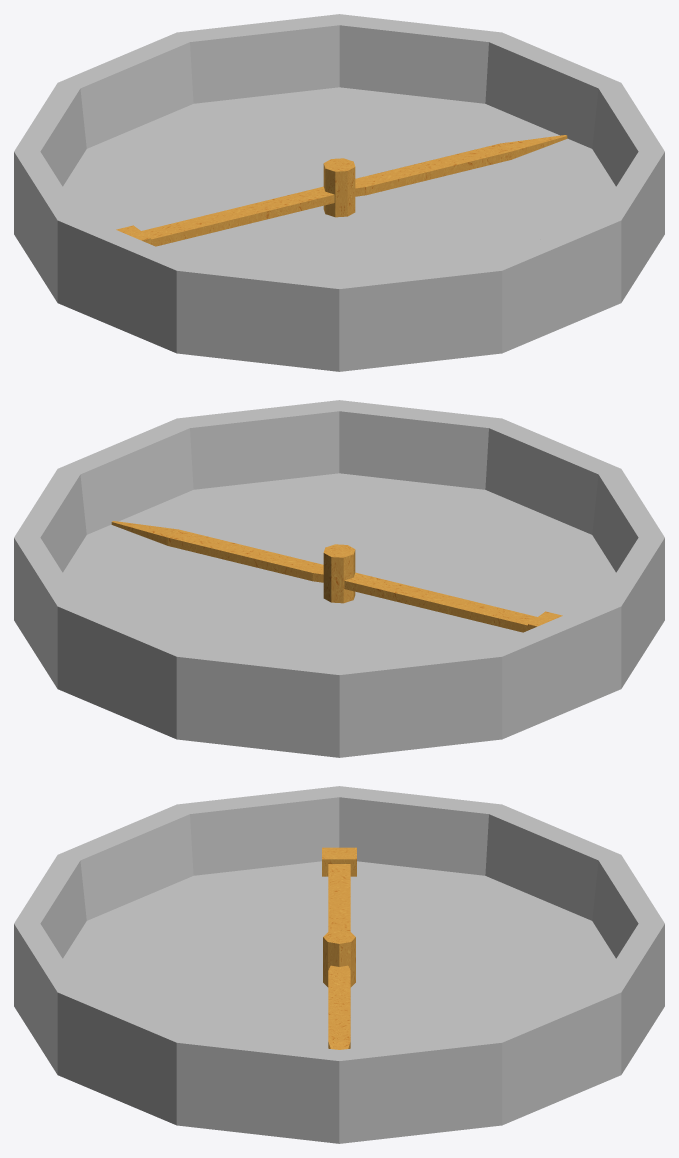
The model's file is Timmy Token.fbx.
3 renders of one model, top to bottom at view 1: azimuth 30°, elevation 25°; view 2: azimuth 150°, elevation 25°; view 3: azimuth 270°, elevation 25°, orthographic.
Visible parts, largest first — view 1: Base, Needle + Counter Balance; view 2: Base, Needle + Counter Balance; view 3: Base, Needle + Counter Balance.
Part boxes in pixels (x1,y1,x2,y2): Base: (14, 14, 664, 371); Needle + Counter Balance: (116, 135, 567, 246); Base: (14, 400, 664, 757); Needle + Counter Balance: (111, 521, 562, 632); Base: (14, 786, 664, 1143); Needle + Counter Balance: (322, 847, 356, 1049).
Size of the model in its own units: 200 by 30 by 200.
